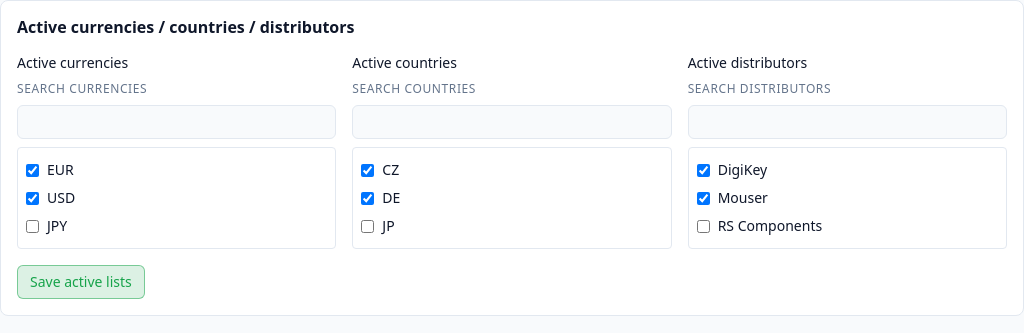
Test: ActiveListsCard › searching narrows the visible items
expect the checkbox labelled "JPY" is shown: met, box x1=26 y1=220 x2=39 y2=232
Type "JP" into the field labelled "Search currencies".
click(177, 122); type("JP")  # box x1=17 y1=105 x2=336 y2=139
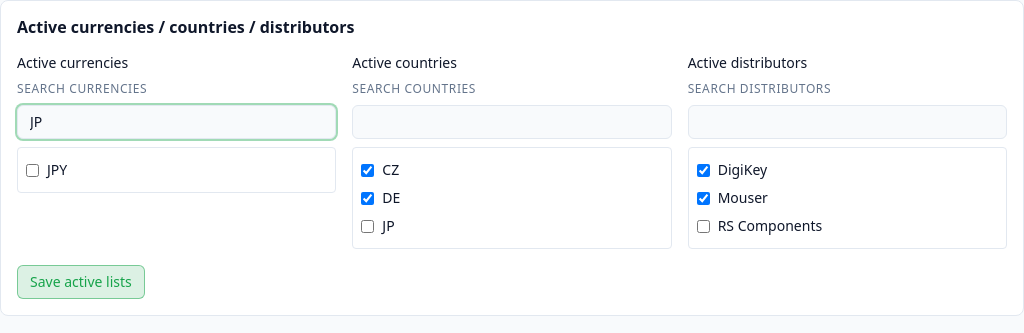
expect the checkbox labelled "JPY" is shown: met, box x1=26 y1=164 x2=39 y2=176
expect the text labelled "EUR" is gone: met
expect the text labelled "USD" is gone: met
